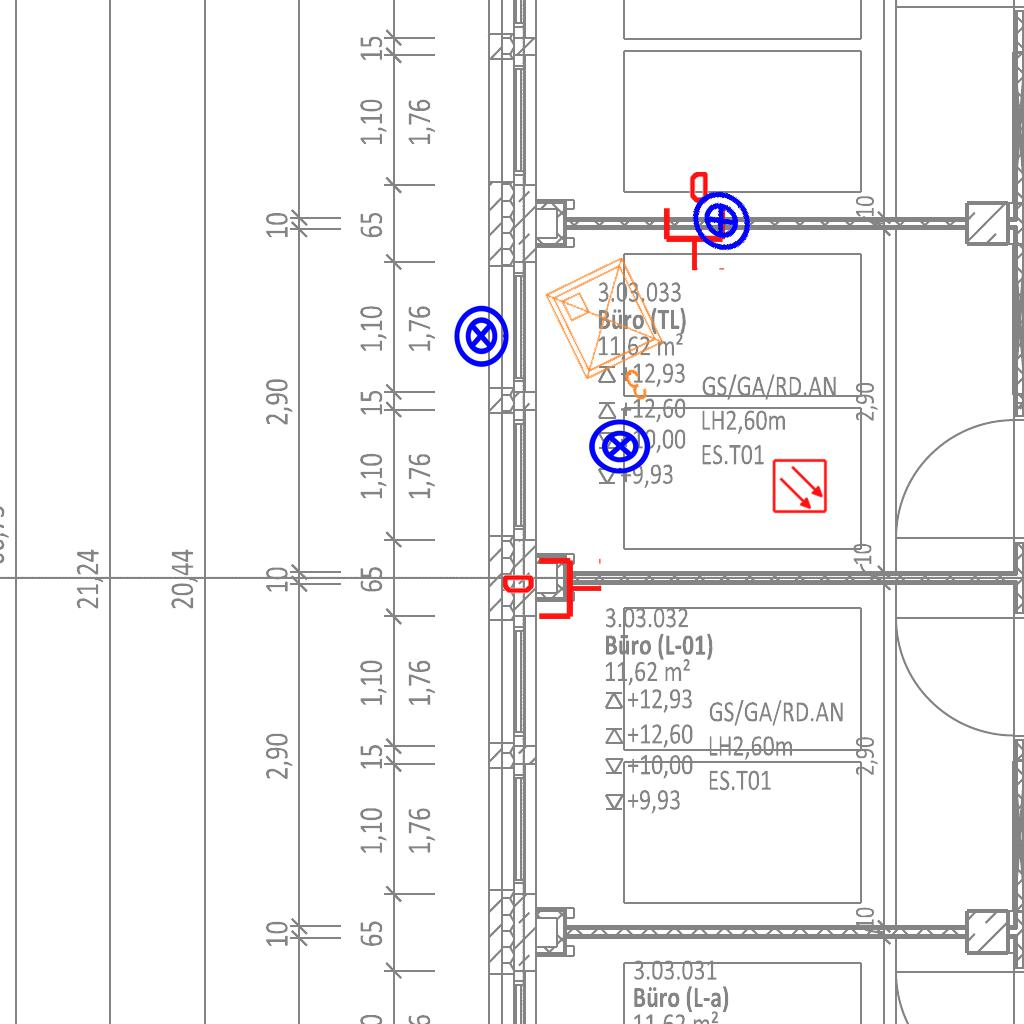Datenanschluss_einfach: (660, 172, 729, 272), (503, 554, 603, 623)
Einbaudownlights_LED_Konferenzraeume: (535, 245, 695, 427)
RMO_Rauchmelder_optischer: (772, 458, 828, 514)
Taster_beleuchtet: (674, 174, 768, 268), (587, 413, 653, 479), (448, 303, 514, 369)
